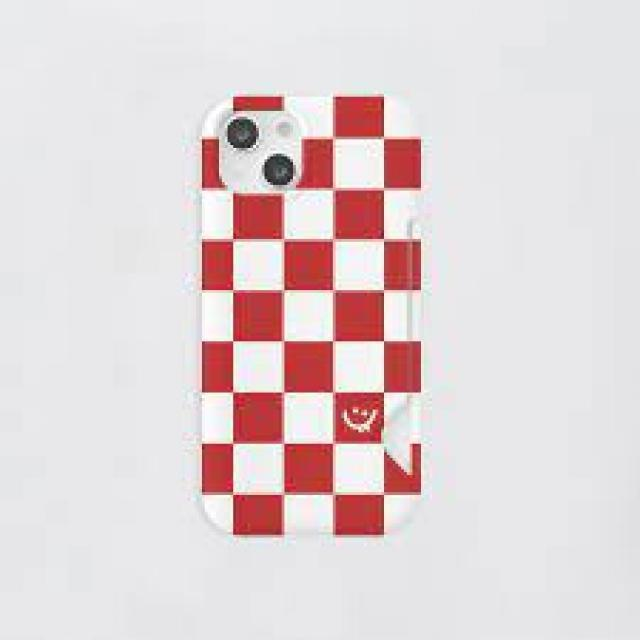phone: (194, 88, 431, 536)
